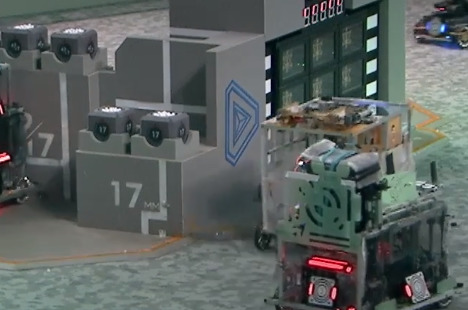box: (141, 109, 194, 151), (50, 24, 100, 67), (84, 102, 135, 142), (3, 22, 49, 60)
